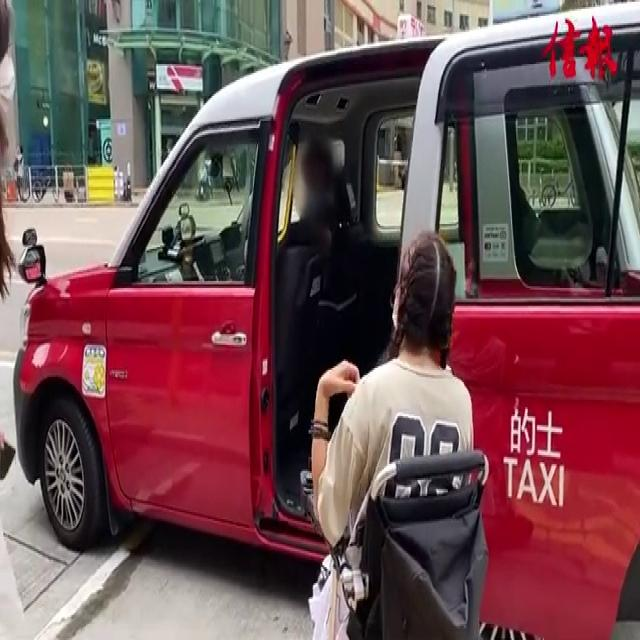wheelchairs: (298, 421, 495, 640)
